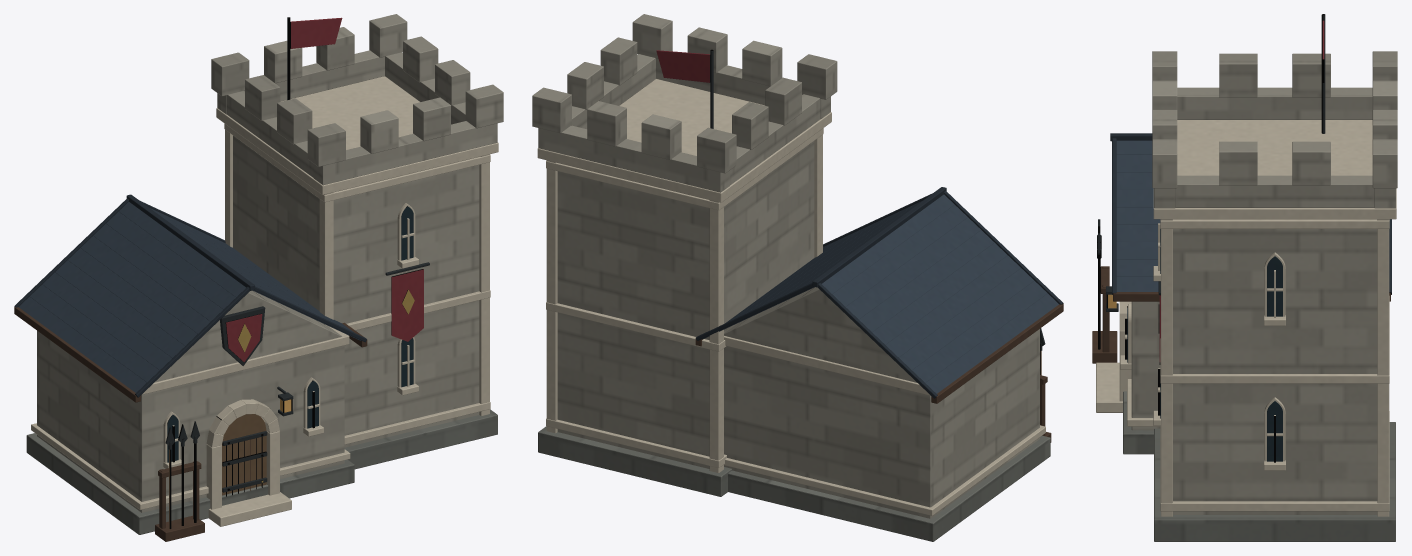
The model's file is Guardhouse.fbx.
The picture shows the model from 3 angles, left to right: view 1: azimuth 30°, elevation 25°; view 2: azimuth 150°, elevation 25°; view 3: azimuth 270°, elevation 25°; orthographic projection. The views are drawn at different scales.
Parts seen in each view (by area): view 1: Guardhouse.001; view 2: Guardhouse.001; view 3: Guardhouse.001.
Boxes of the visible parts, <box> form: Guardhouse.001: <box>14,14,503,541</box>; Guardhouse.001: <box>532,14,1063,541</box>; Guardhouse.001: <box>1092,14,1397,541</box>.
Bounding box in the file's own units: 10.16 × 9.96 × 6.1.
